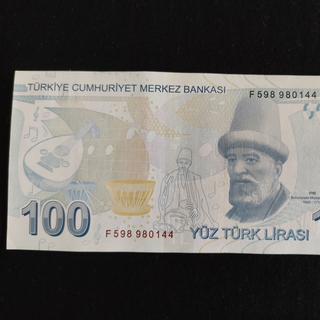100TLBack: (6, 67, 320, 257)
